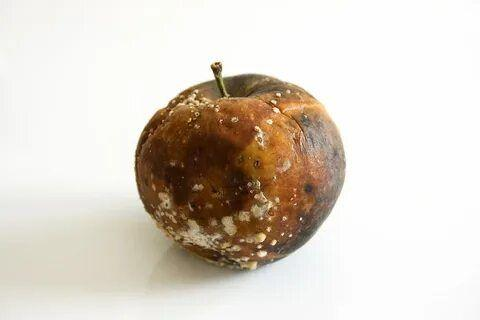Apple: (136, 75, 346, 270)
